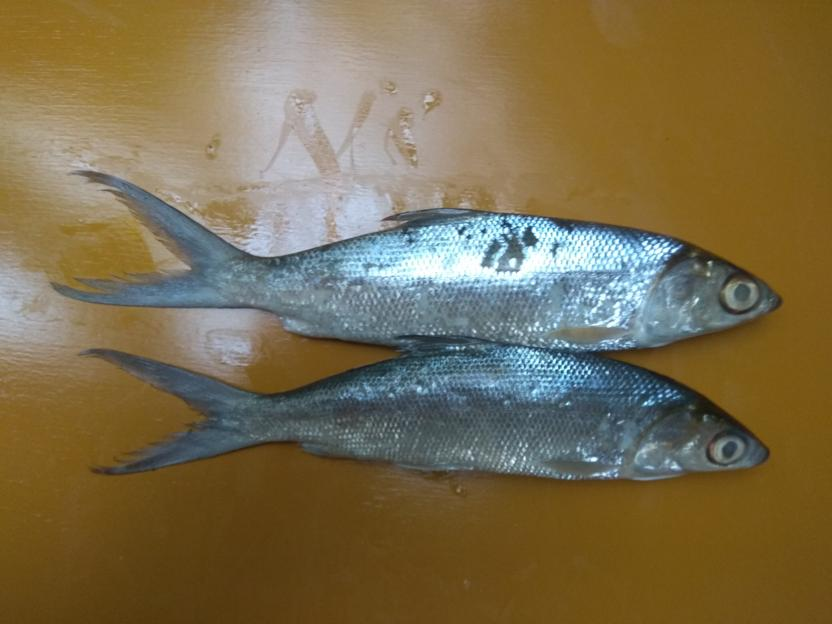Fish head: (639, 246, 786, 351), (630, 396, 772, 482)
Fish tail: (49, 168, 265, 311), (73, 345, 271, 477)
